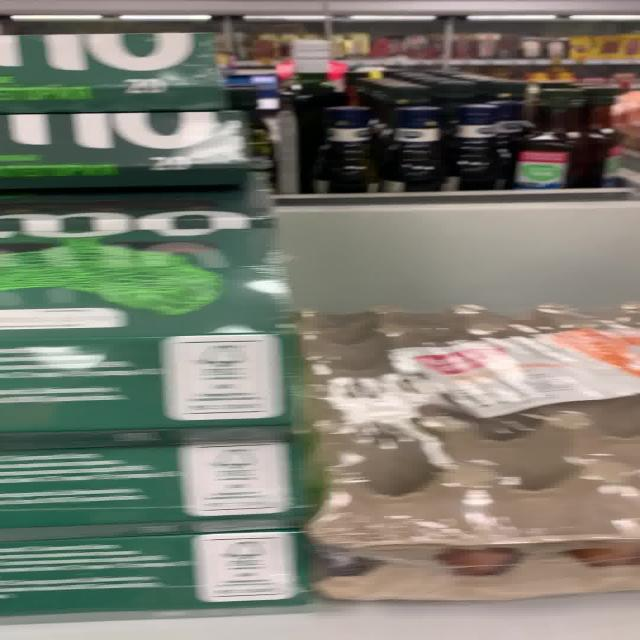egg box: (503, 84, 580, 188), (384, 80, 443, 192), (446, 76, 497, 192), (322, 86, 377, 192)
